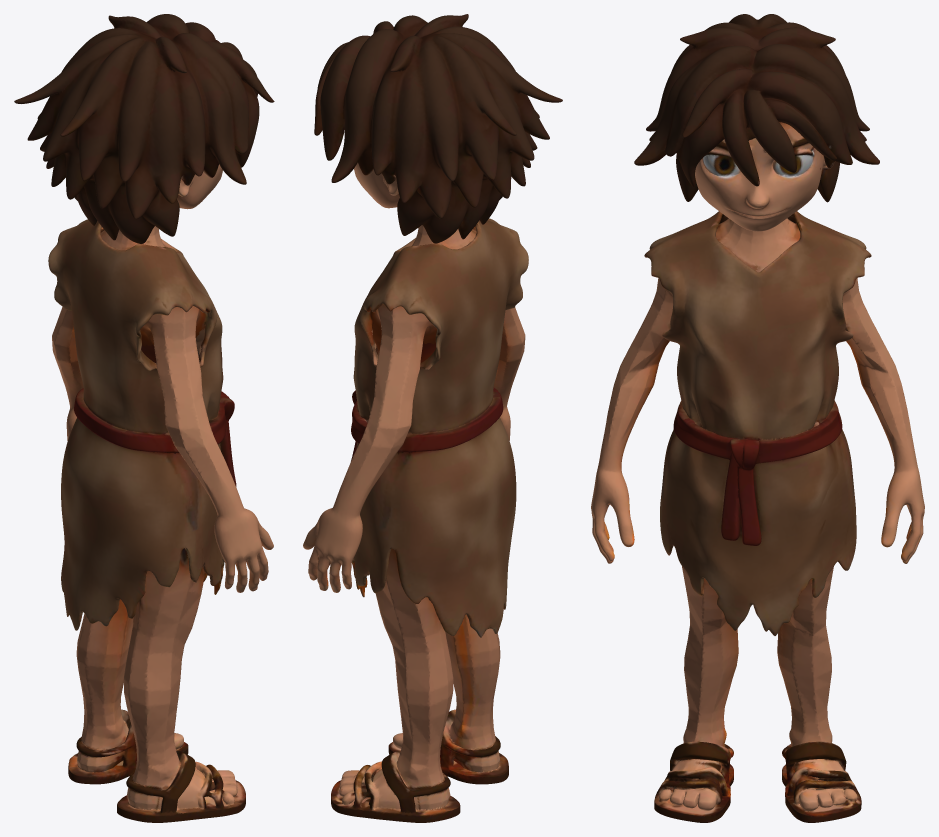
Rendered from Yuba.fbx.
3 renders of one model, left to right at view 1: azimuth 30°, elevation 25°; view 2: azimuth 150°, elevation 25°; view 3: azimuth 270°, elevation 25°, orthographic.
Parts seen in each view (by area): view 1: tripo_node_bf012503; view 2: tripo_node_bf012503; view 3: tripo_node_bf012503.
Part boxes in pixels (x1=…): tripo_node_bf012503: x1=14, y1=14, x2=274, y2=822; tripo_node_bf012503: x1=303, y1=14, x2=562, y2=822; tripo_node_bf012503: x1=591, y1=14, x2=924, y2=822.
Bounding box in the file's own units: 0.2922 × 1 × 0.3958.
Materials: 1 (1 with a texture image).
